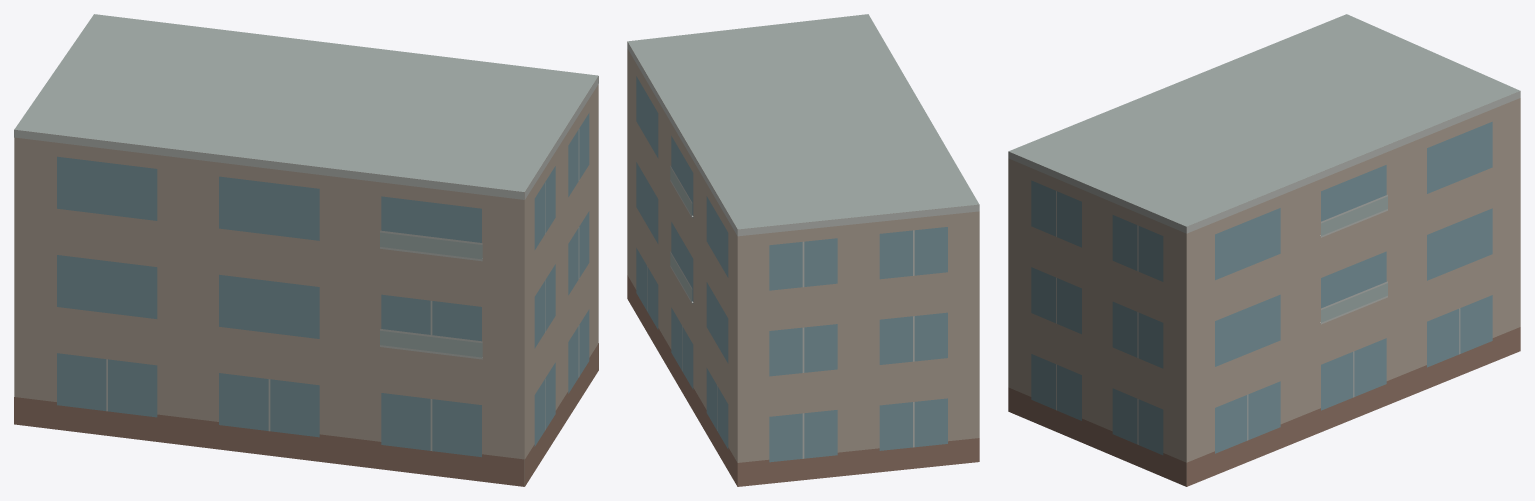
File: survey-upis-32972603.glb
3 renders of one model, left to right at view 1: azimuth 30°, elevation 25°; view 2: azimuth 150°, elevation 25°; view 3: azimuth 270°, elevation 25°, orthographic. The views are drawn at different scales.
Parts seen in each view (by area): view 1: survey-upis-32972603.tmp; view 2: survey-upis-32972603.tmp; view 3: survey-upis-32972603.tmp.
Boxes of the visible parts, <box> form: survey-upis-32972603.tmp: <box>14,14,598,486</box>; survey-upis-32972603.tmp: <box>627,14,979,486</box>; survey-upis-32972603.tmp: <box>1008,14,1520,486</box>.
Size of the model in its own units: 16.06 by 9.15 by 16.34.
